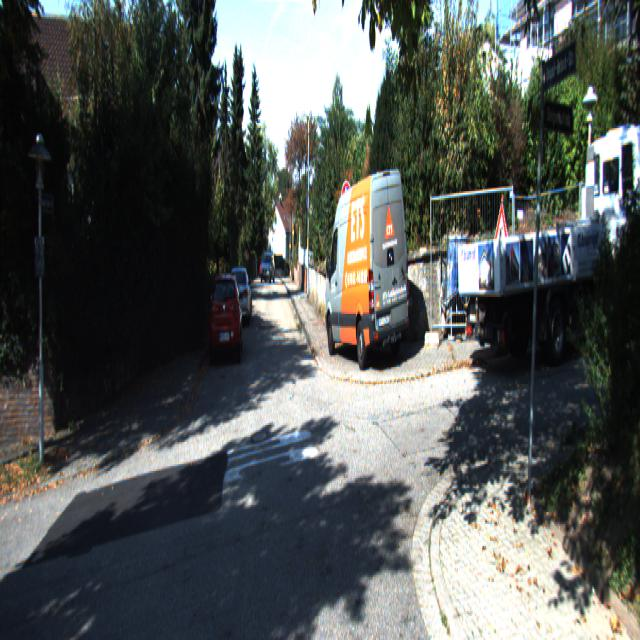Car: (455, 96, 639, 407), (324, 165, 412, 379), (206, 265, 243, 366), (229, 265, 254, 324), (260, 252, 276, 282)
